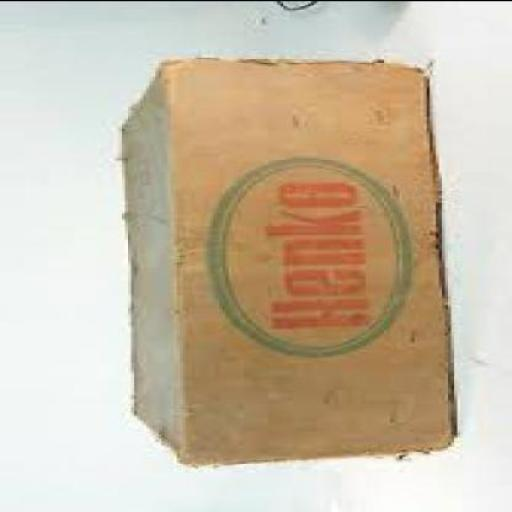cardboard: (120, 59, 454, 468)
